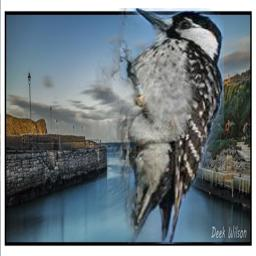Woodpecker: (94, 8, 224, 244)
